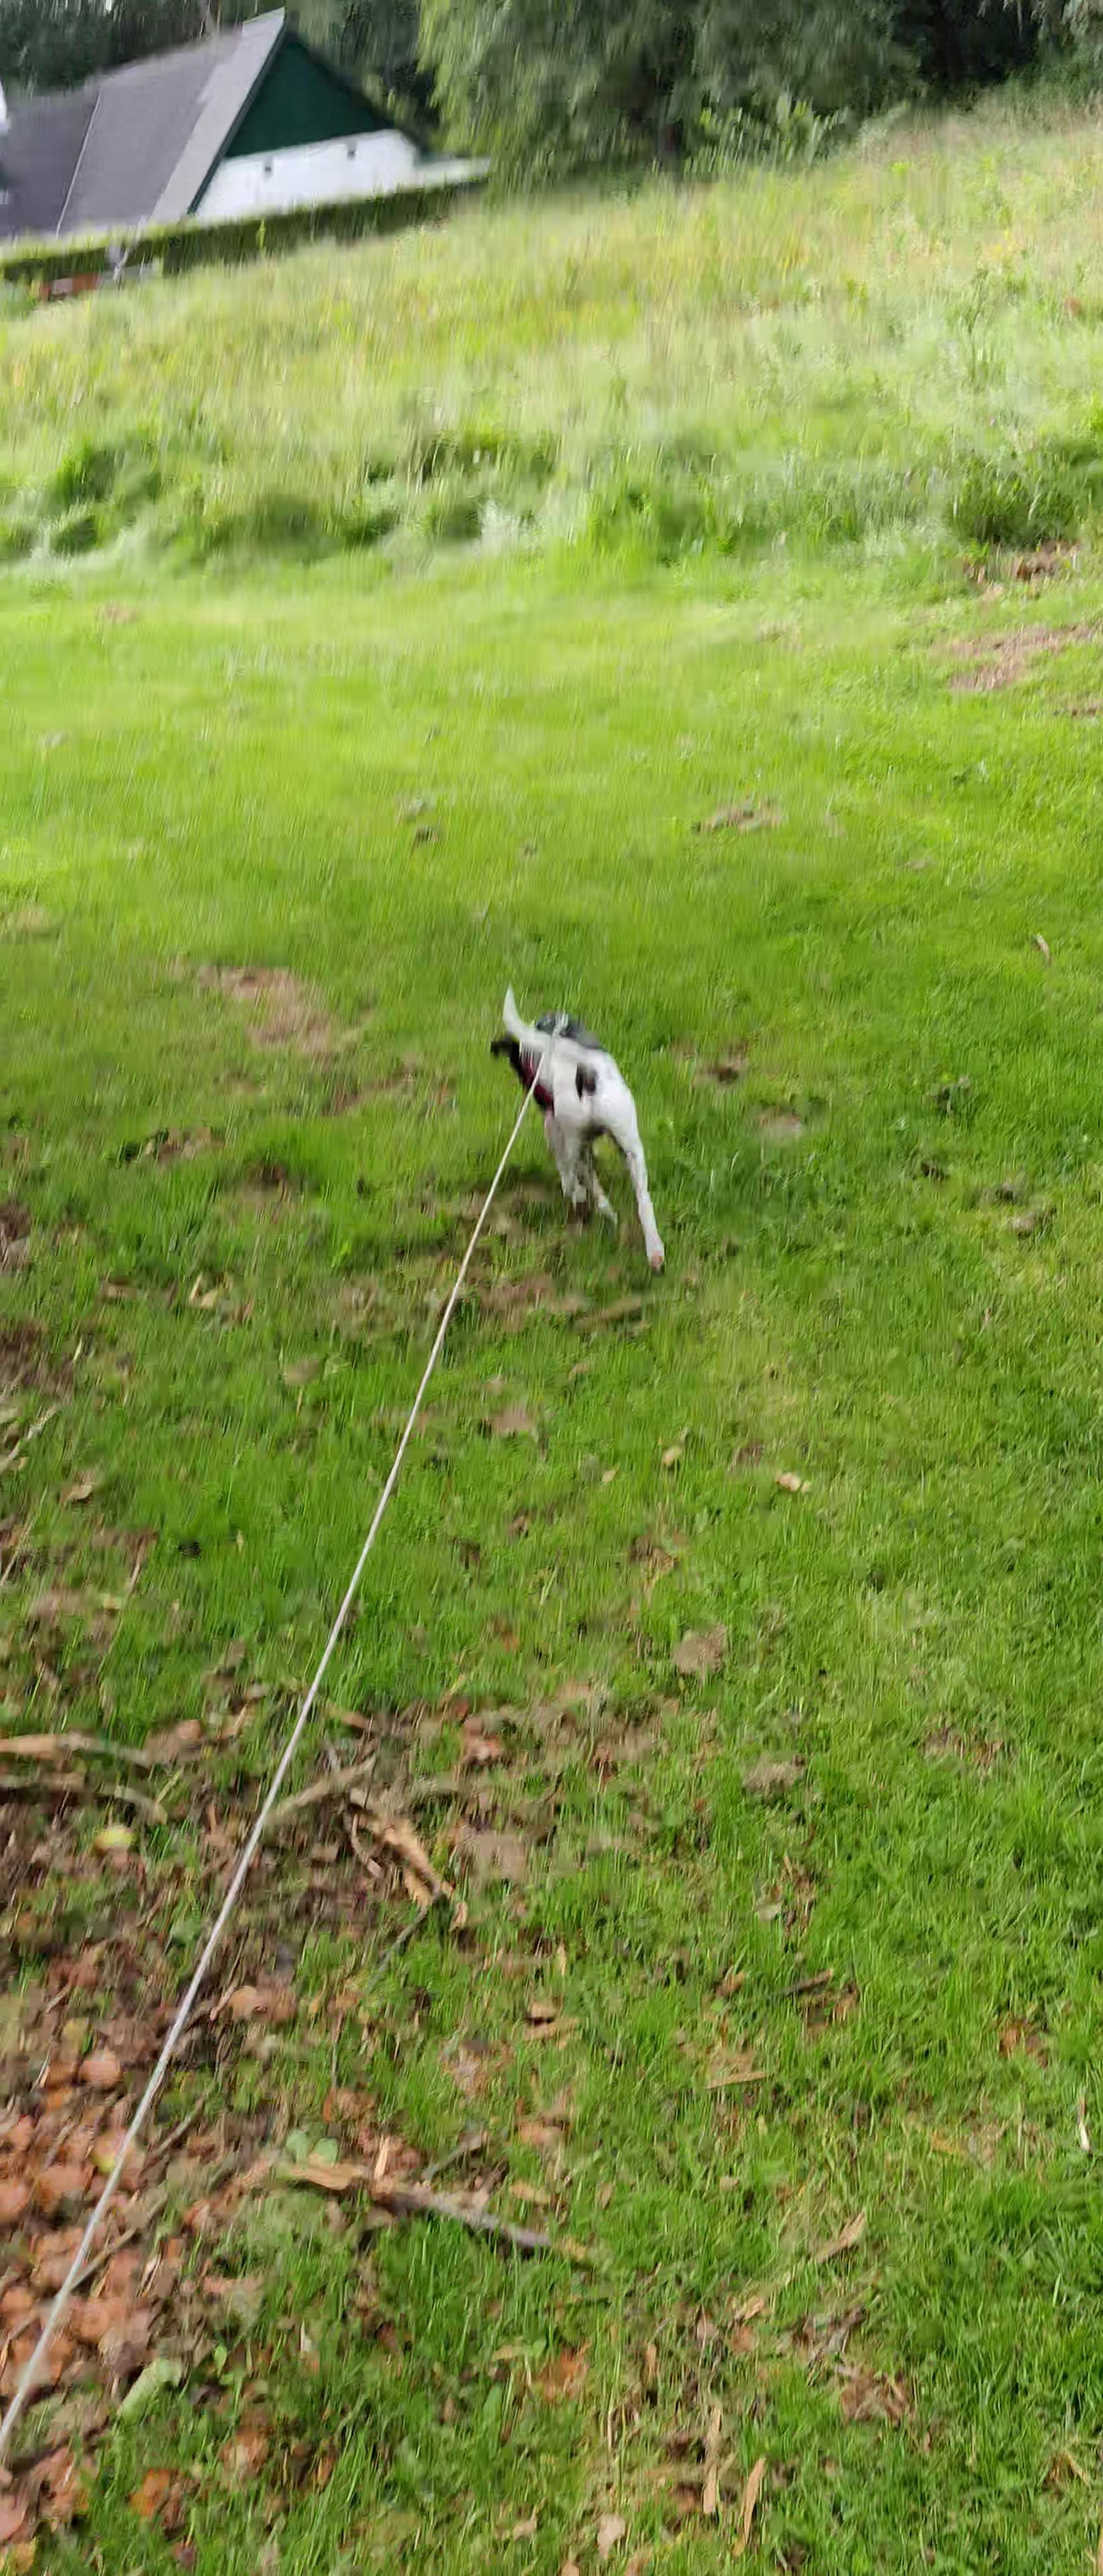Dog: (472, 963, 684, 1281)
